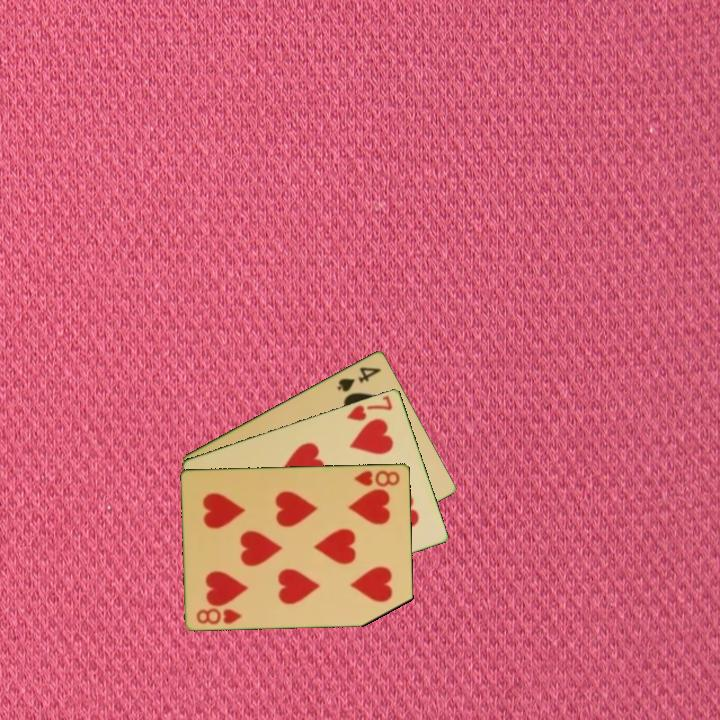4s: (334, 363, 384, 394)
7h: (343, 392, 396, 424)
8h: (193, 604, 244, 627), (351, 467, 402, 489)
